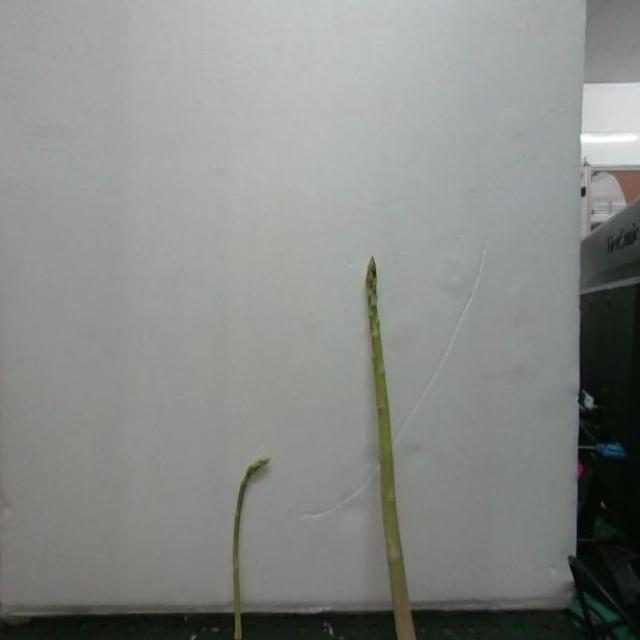aspargus: (363, 258, 414, 640), (231, 460, 269, 640)
